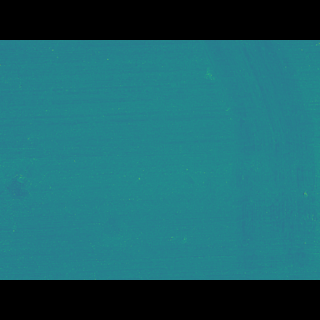Loch: (193, 68, 320, 251), (0, 162, 38, 198)
